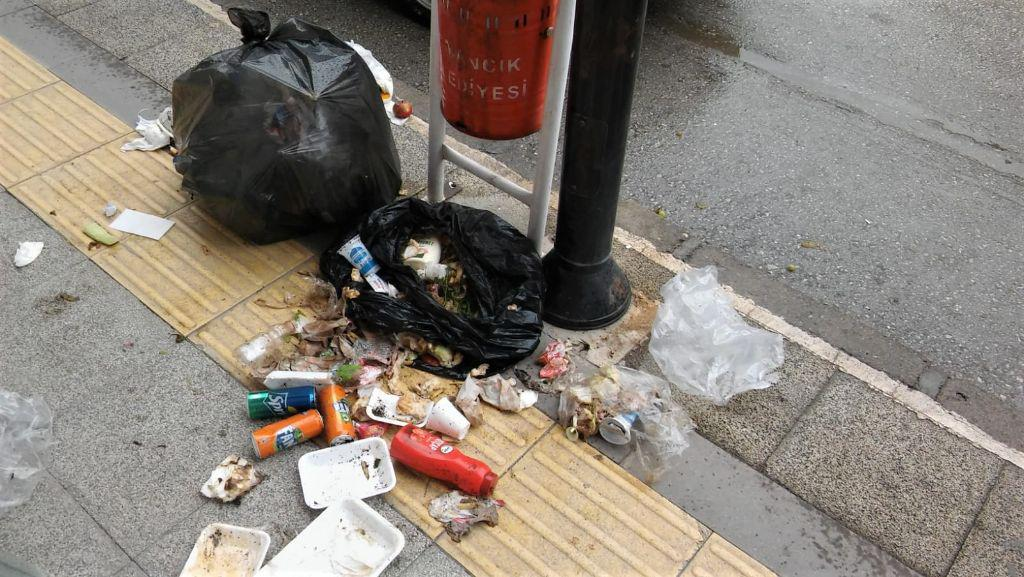Container: (420, 2, 561, 256)
Garbage: (162, 214, 595, 559), (155, 8, 411, 234), (237, 300, 425, 481), (189, 422, 482, 536), (535, 328, 741, 482), (644, 245, 800, 442), (328, 208, 484, 326), (197, 504, 436, 577), (416, 403, 517, 557), (67, 195, 175, 256)
